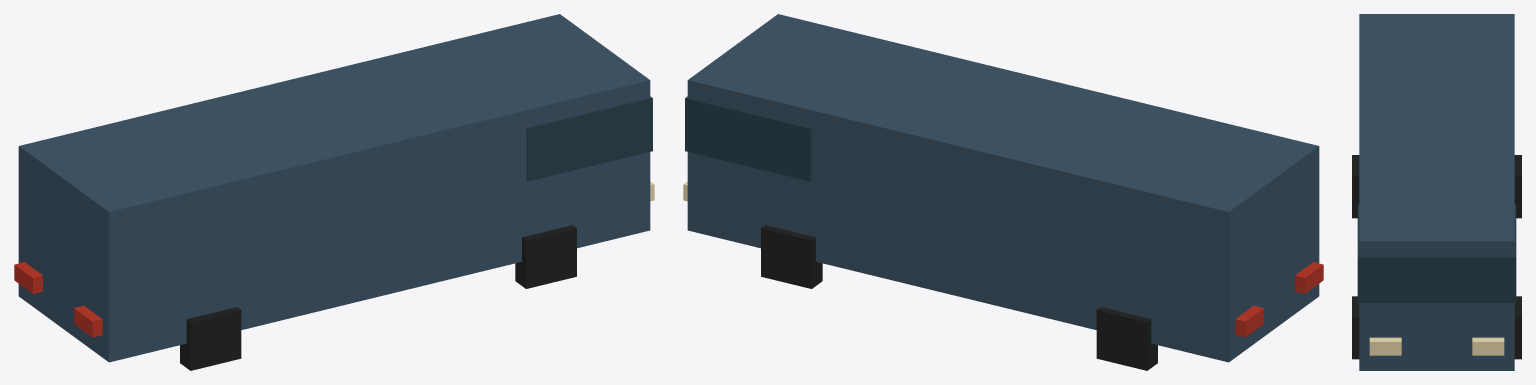
File: traffic-van-4.glb
3 renders of one model, left to right at view 1: azimuth 30°, elevation 25°; view 2: azimuth 150°, elevation 25°; view 3: azimuth 270°, elevation 25°, orthographic. The views are drawn at different scales.
Bounding box in the file's own units: 6.65 × 1.98 × 2.02.
